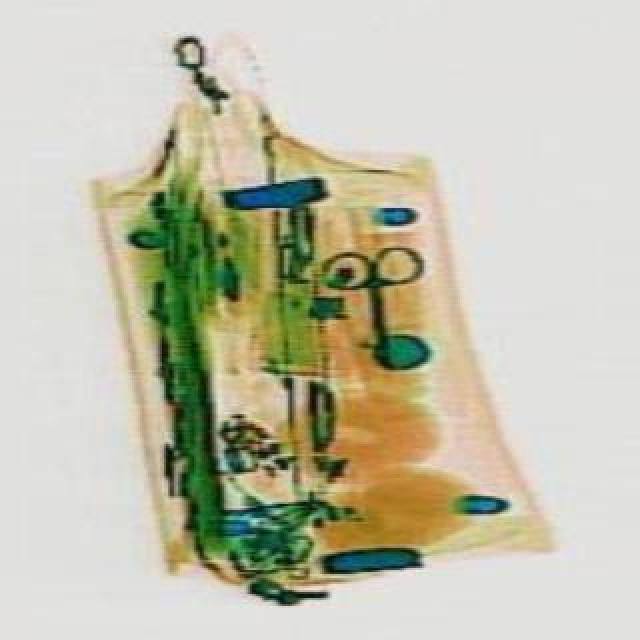pliers: (326, 240, 446, 368)
